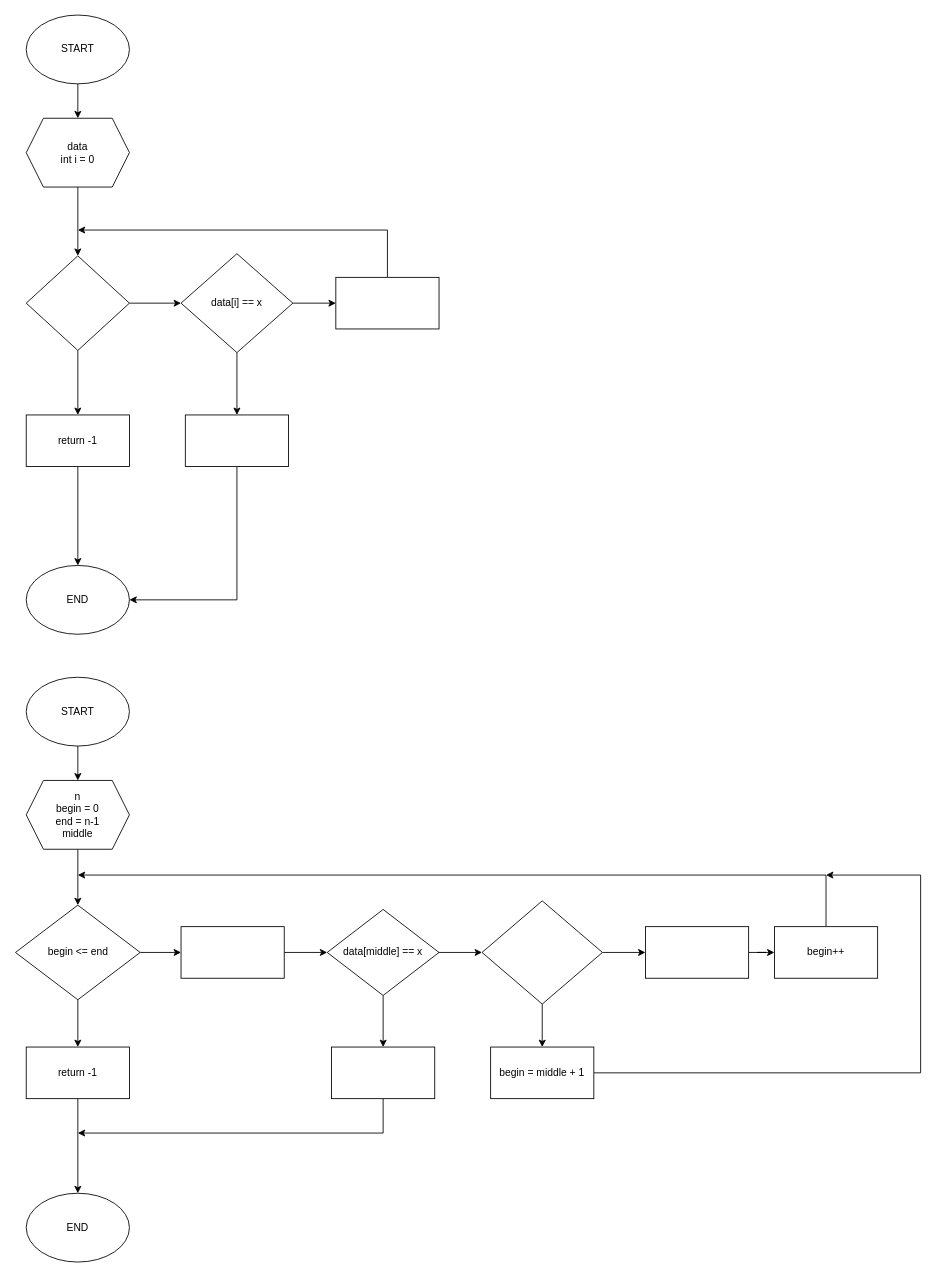
This 943x1277 diagram has some shape labels left out. The shapes that lost their labels are listed below. From the top down, each one's centre as x and y in pixels, then its label:
At pixel 77 302: "i < data.length".
At pixel 387 302: "i++".
At pixel 236 440: "return i".
At pixel 232 952: "middle = (begin+end)/2".
At pixel 541 952: "x > data[middle]".
At pixel 697 952: "end = middle - 1".
At pixel 383 1072: "return middle".
